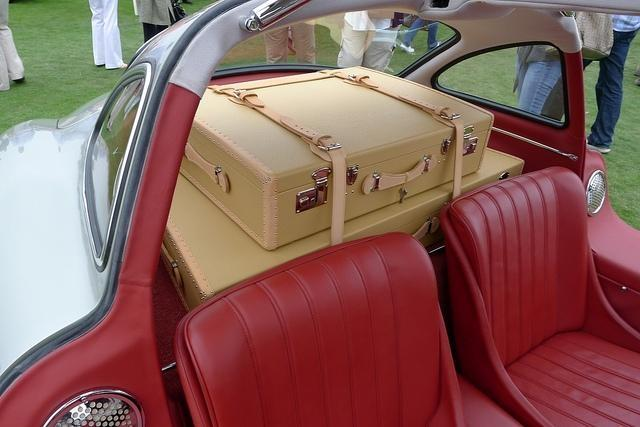car: (1, 3, 640, 422)
